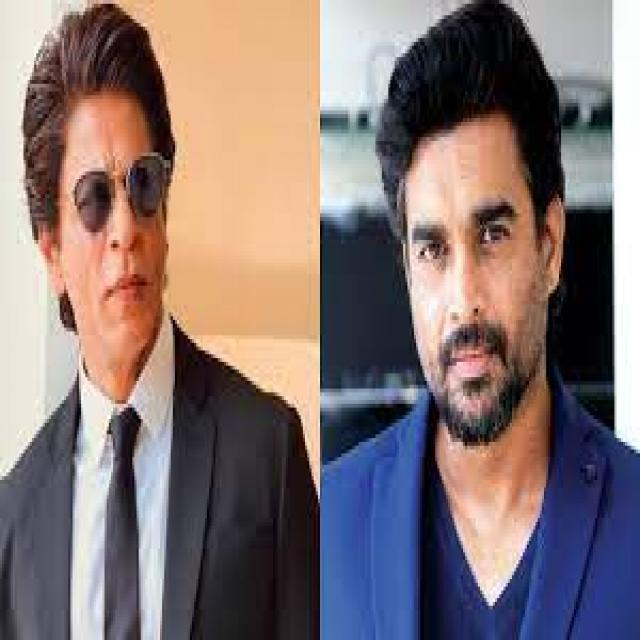No_Goggles: (402, 200, 540, 280)
No_Helmet: (357, 10, 570, 167), (13, 0, 173, 137)
